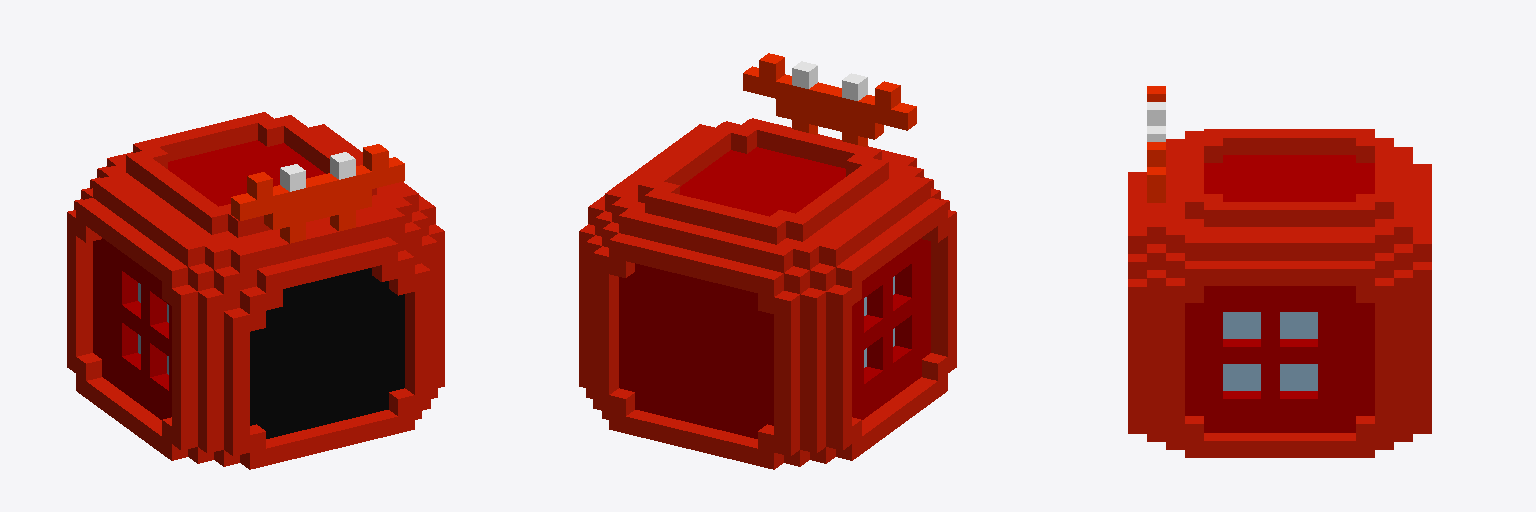
3 renders of one model, left to right at view 1: azimuth 30°, elevation 25°; view 2: azimuth 150°, elevation 25°; view 3: azimuth 270°, elevation 25°, orthographic.
Visible parts, largest first — view 1: object 1; view 2: object 1; view 3: object 1.
Boxes of the visible parts, x1,y1,x2,y2 form: object 1: [67, 112, 444, 469]; object 1: [579, 53, 956, 469]; object 1: [1128, 86, 1431, 457].
Size of the model in its own units: 1.6 by 1.6 by 1.6.
Materials: 1 (1 with a texture image).